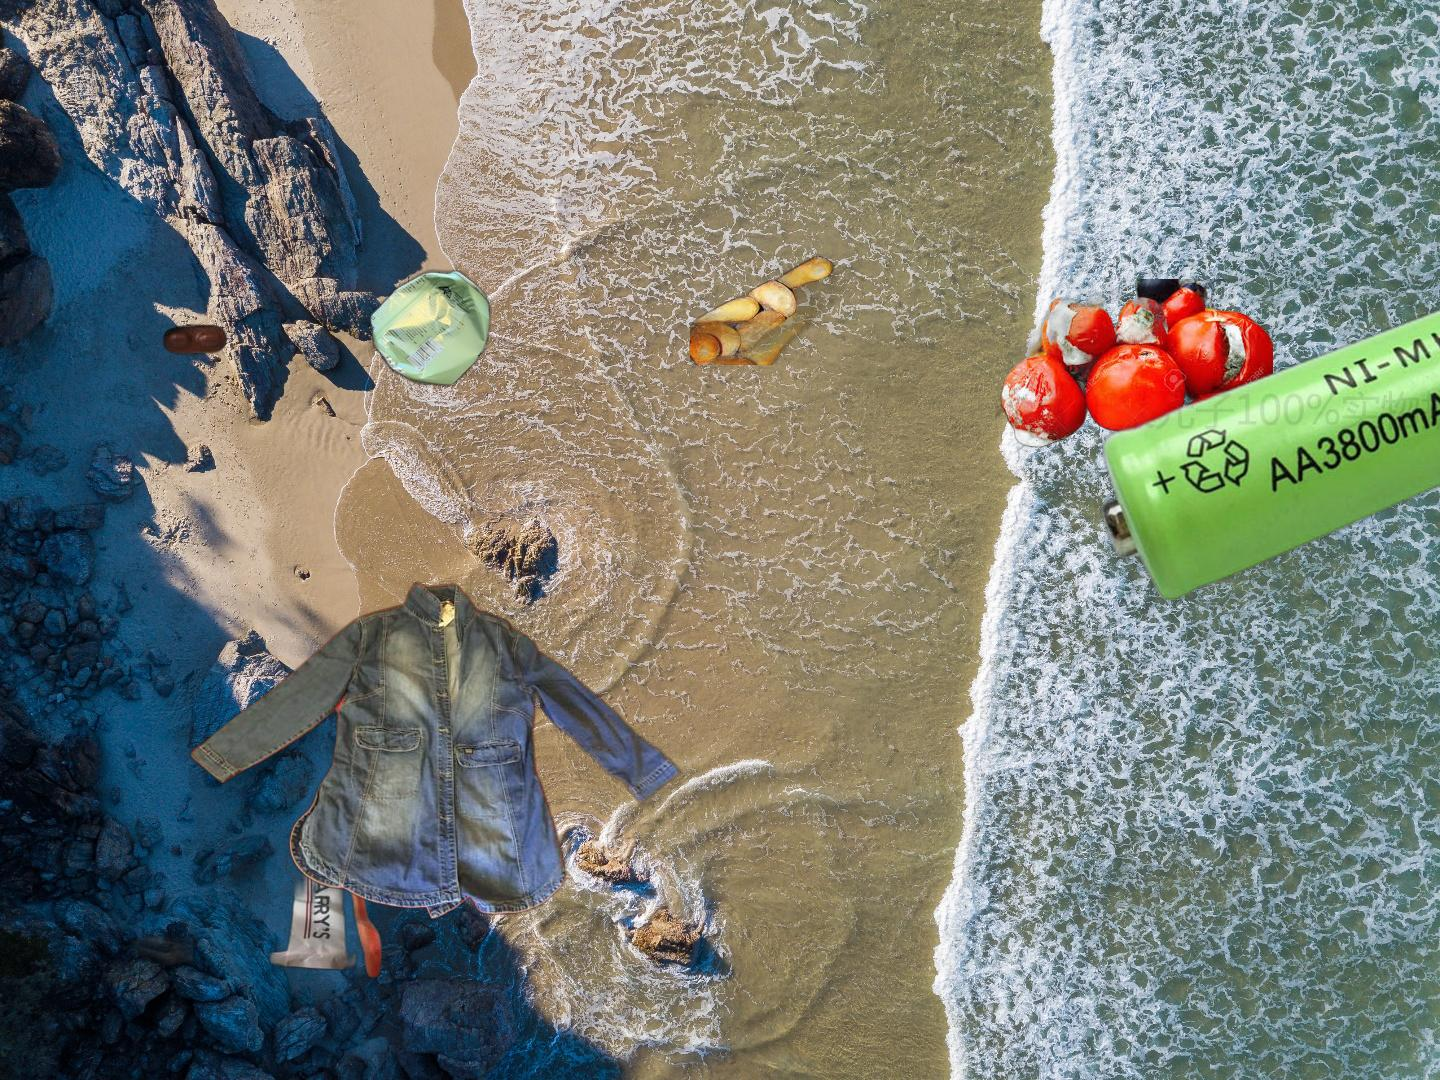battery: (1094, 238, 1440, 607)
biological: (996, 279, 1273, 459), (691, 248, 990, 365)
clothes: (185, 577, 687, 922)
metal-cans: (367, 265, 494, 393)
paper: (88, 717, 585, 992)
trash: (160, 322, 230, 358)
